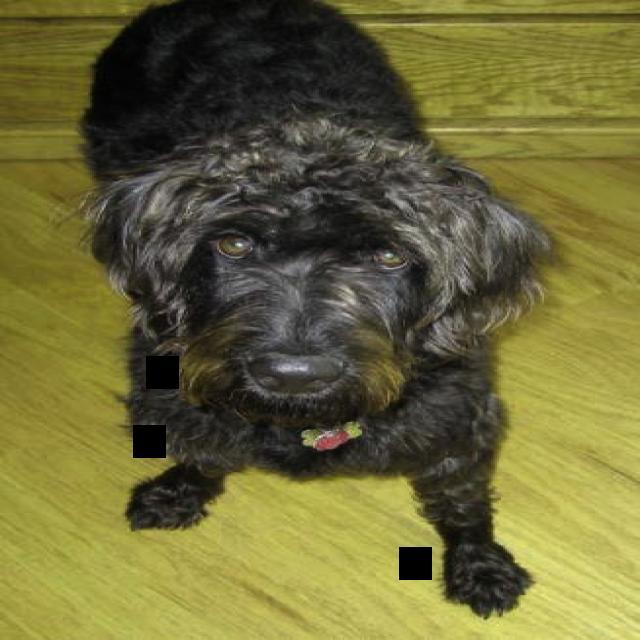adult_dog: (77, 0, 554, 623)
